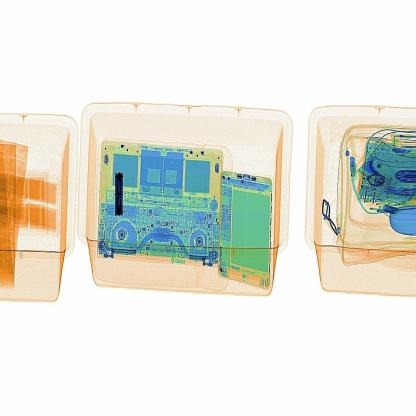scissors: (108, 152, 138, 221)
